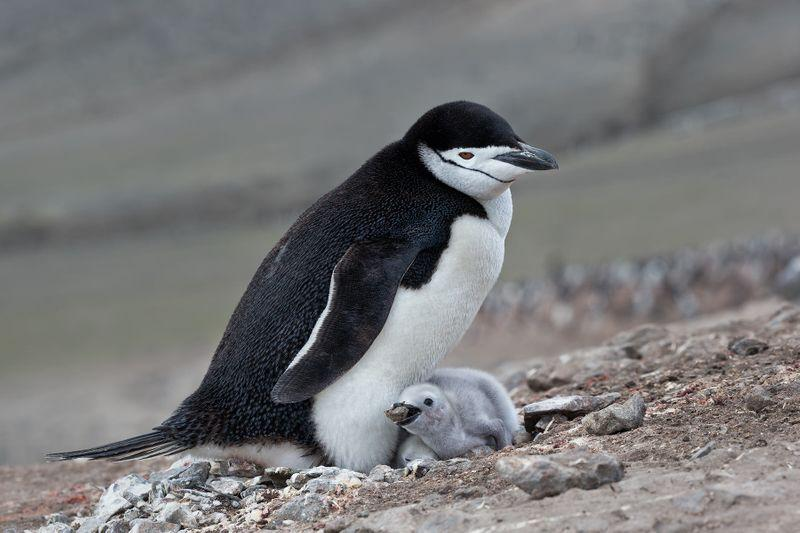chinstrap: (109, 79, 569, 477)
